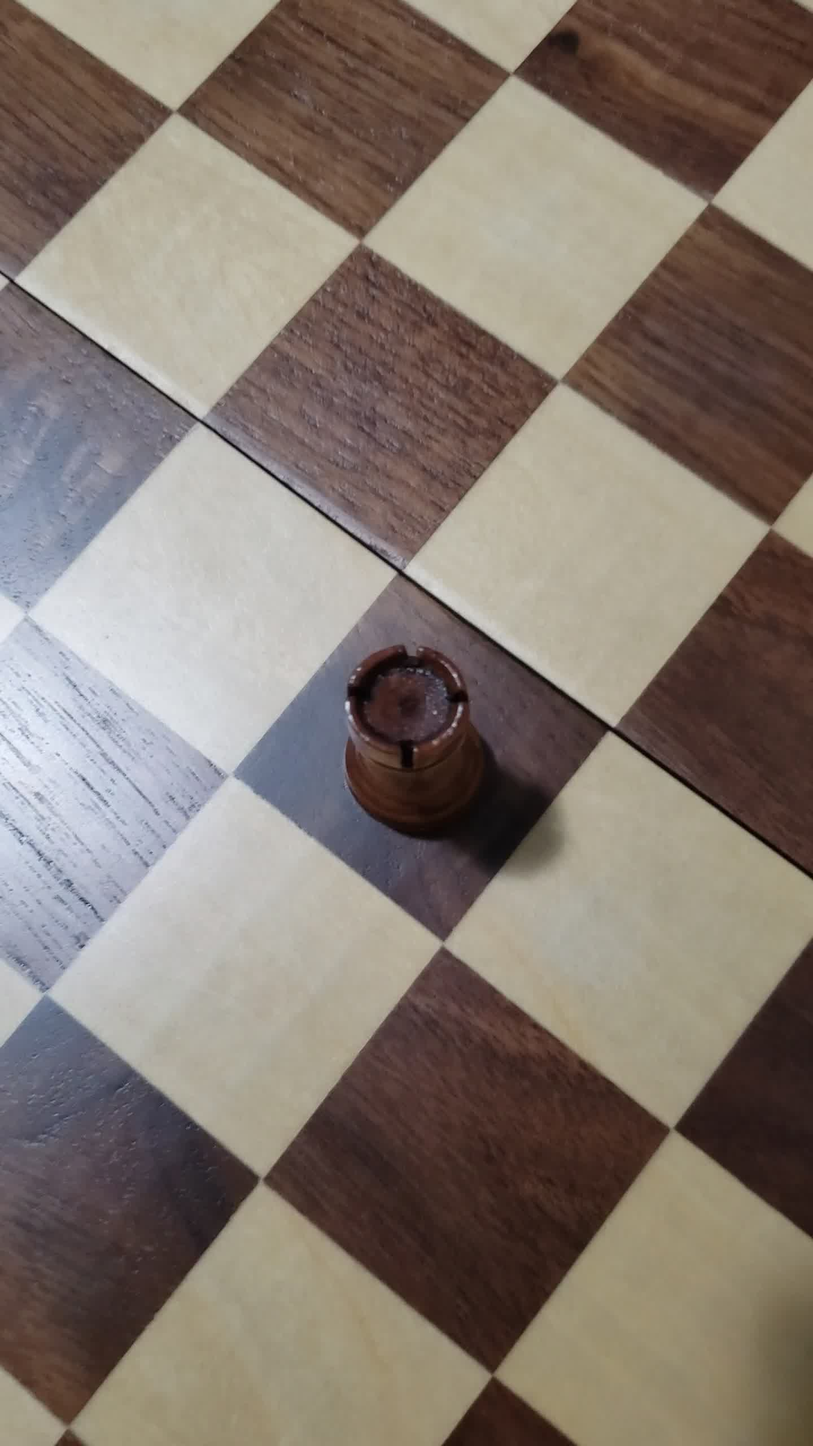black-rook: (313, 633, 505, 849)
